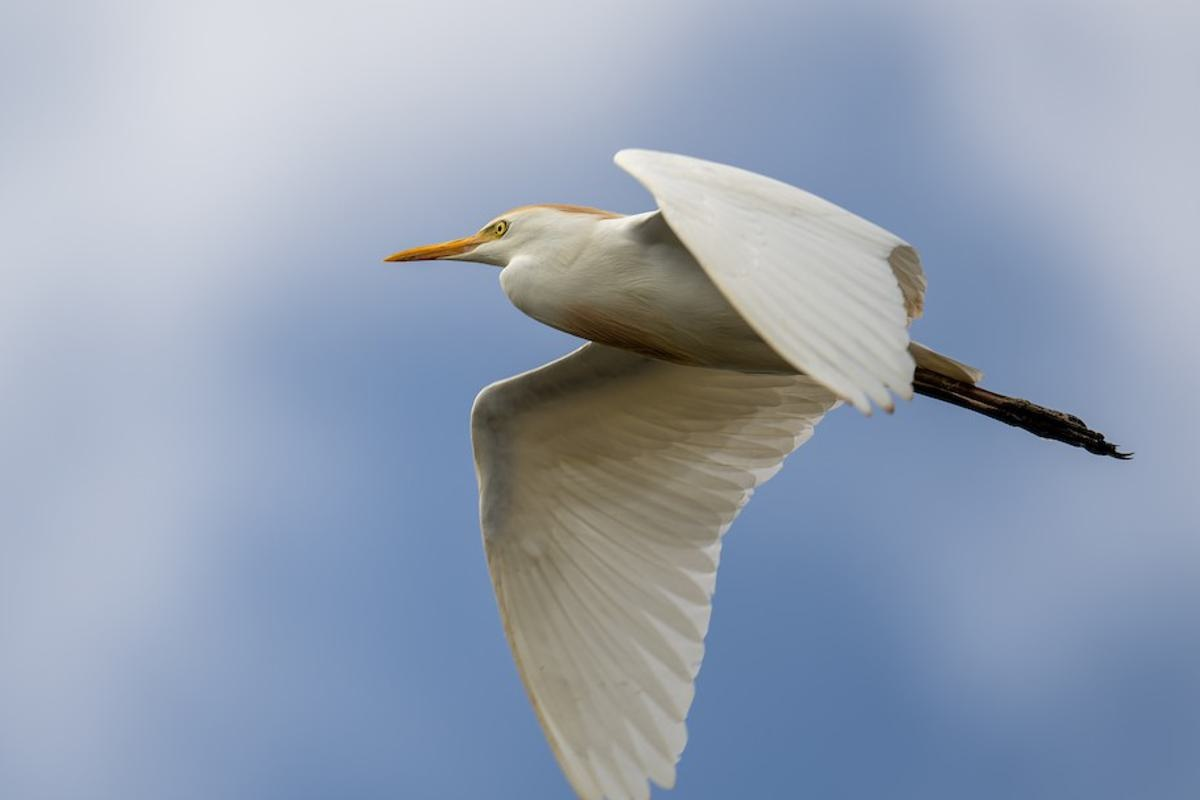egret: (392, 129, 1132, 785)
